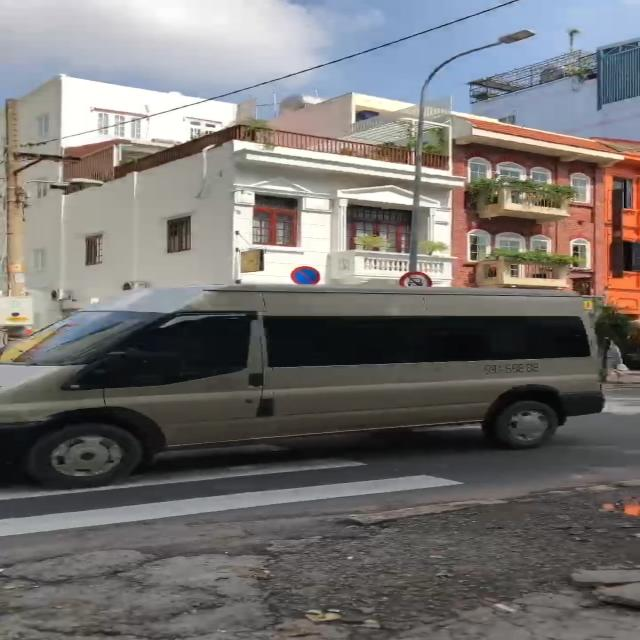Bien bao cam do xe: (290, 265, 323, 287)
Bien bao cam xe oto: (396, 269, 434, 289)
